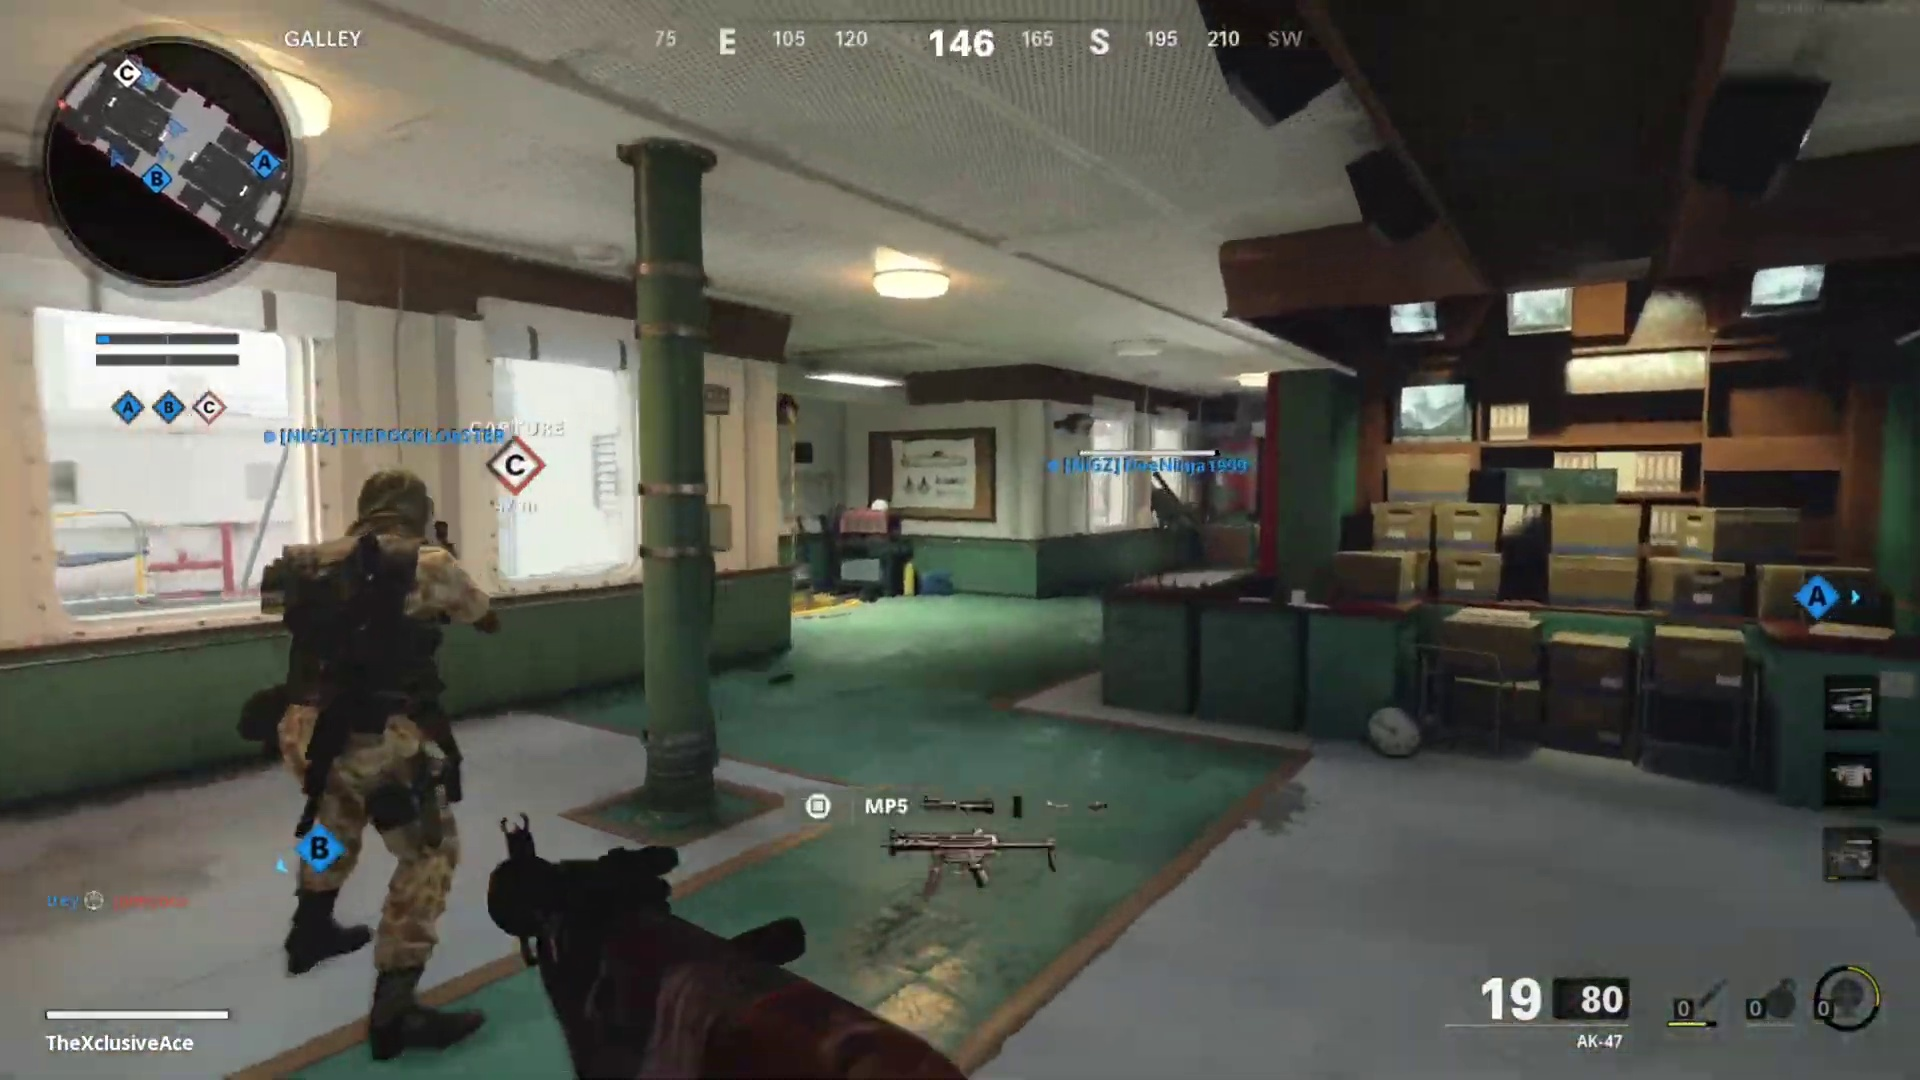head: (347, 484, 435, 544)
person: (265, 463, 498, 1059), (1152, 476, 1204, 573)
